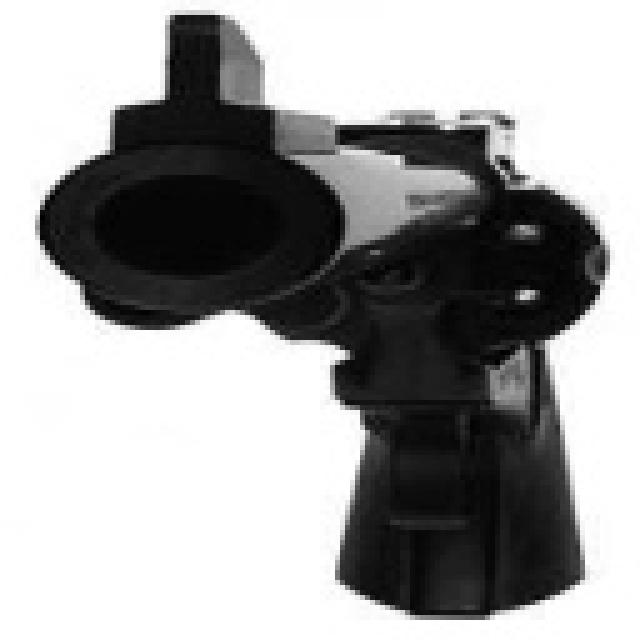Rifle: (28, 48, 580, 579)
